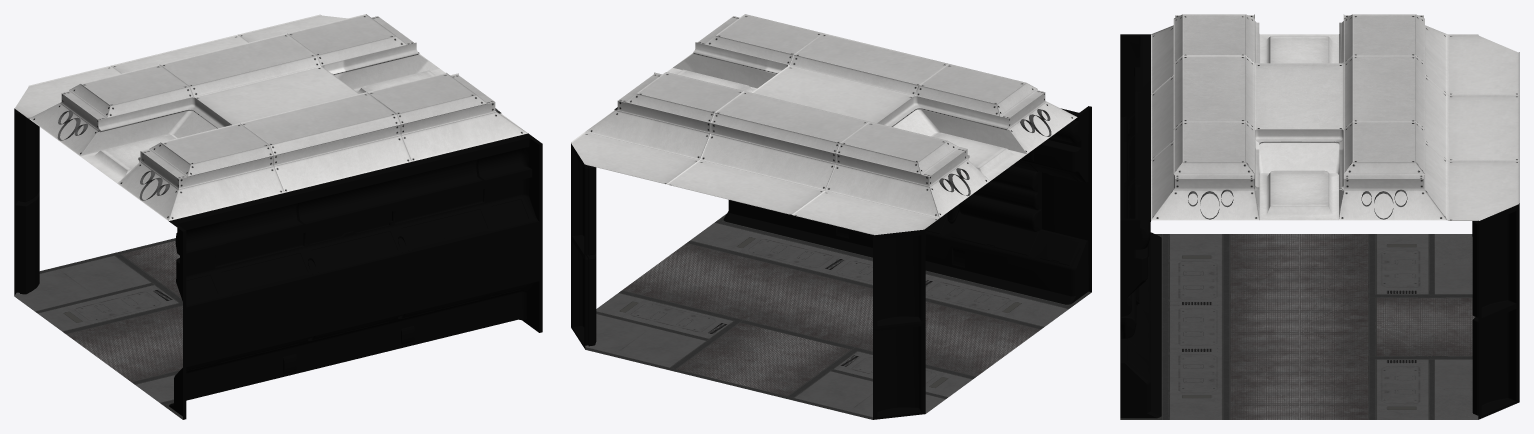
Rendered from HallwayIntersection.fbx.
3 views of the same model, side by side, from view 1: azimuth 30°, elevation 25°; view 2: azimuth 150°, elevation 25°; view 3: azimuth 270°, elevation 25° (orthographic). The views are drawn at different scales.
Visible parts, largest first — view 1: HallwayIntersection001; view 2: HallwayIntersection001; view 3: HallwayIntersection001.
Part boxes in pixels (x1=…): HallwayIntersection001: x1=14, y1=14, x2=542, y2=419; HallwayIntersection001: x1=571, y1=14, x2=1091, y2=419; HallwayIntersection001: x1=1120, y1=14, x2=1519, y2=419.
Size of the model in its own units: 800 by 478 by 725.
